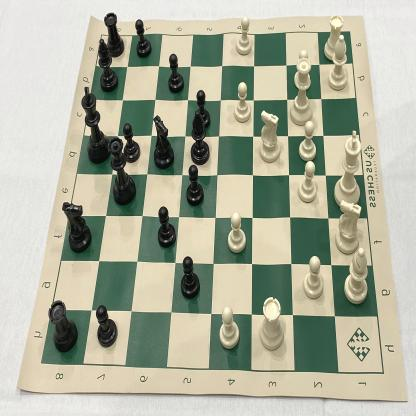black-bishop: (98, 38, 118, 92), (189, 109, 209, 163)
black-knight: (80, 84, 110, 162), (62, 199, 92, 255), (152, 114, 176, 172)
black-pawn: (179, 254, 201, 300), (96, 302, 117, 349), (156, 204, 177, 249), (186, 165, 206, 208), (193, 87, 211, 131), (123, 121, 141, 164), (167, 52, 185, 95), (135, 18, 152, 59)
black-queen: (111, 137, 132, 206)
black-rook: (47, 297, 77, 355), (103, 11, 125, 60)
white-bishop: (343, 246, 370, 305), (327, 33, 350, 92)
white-king: (333, 129, 363, 211)
white-knight: (258, 109, 282, 164)
white-pawn: (217, 306, 241, 350), (296, 159, 318, 205), (227, 206, 246, 254), (298, 120, 318, 162), (303, 256, 322, 298), (233, 81, 251, 124), (235, 16, 253, 56), (294, 48, 311, 88)
white-queen: (288, 58, 316, 126)
white-rook: (258, 295, 285, 352), (324, 14, 344, 62)
